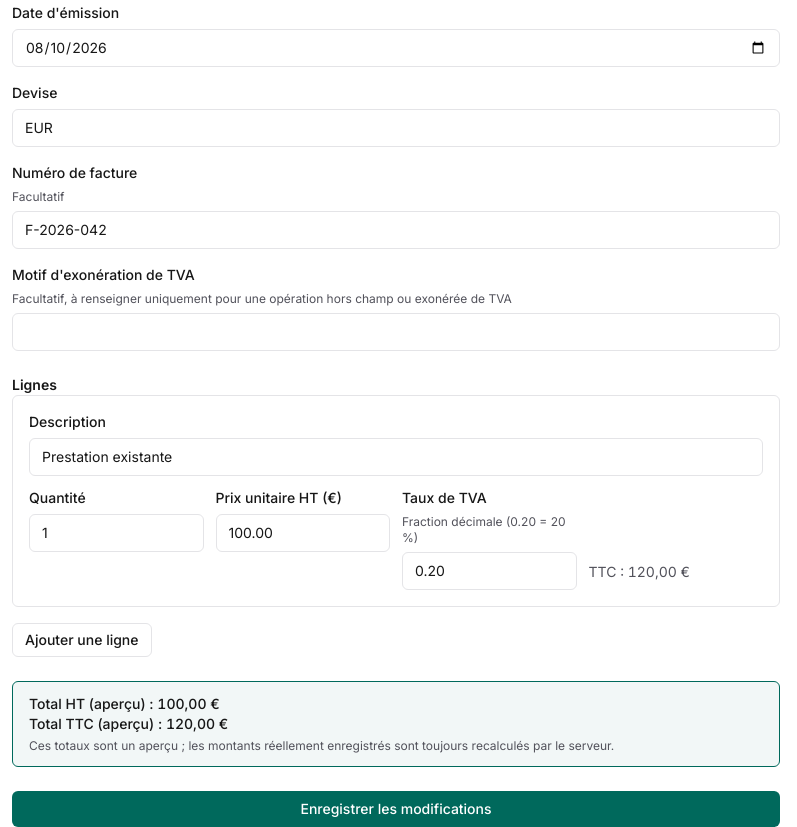
Test: InvoiceEditor › edit mode › shows a distinct conflict message on a 409 (stale ETag), separate from field validation errors
The image size is (797, 827).
(page scrolled)
expect the field showing "Prestation existante" is shown: met, box [29,438,763,476]
Click the button "Enregistrer les modifications": (396, 809) [12,791,780,826]
(page scrolled)
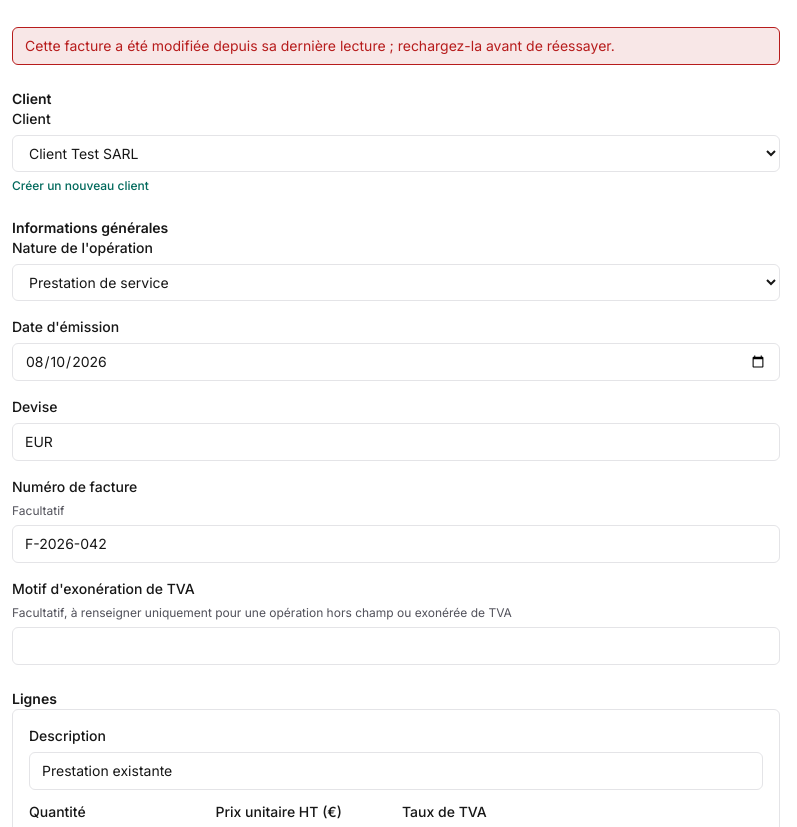
expect the text "modifiée depuis sa dernière lecture" is shown: met, box [25,37,615,54]
